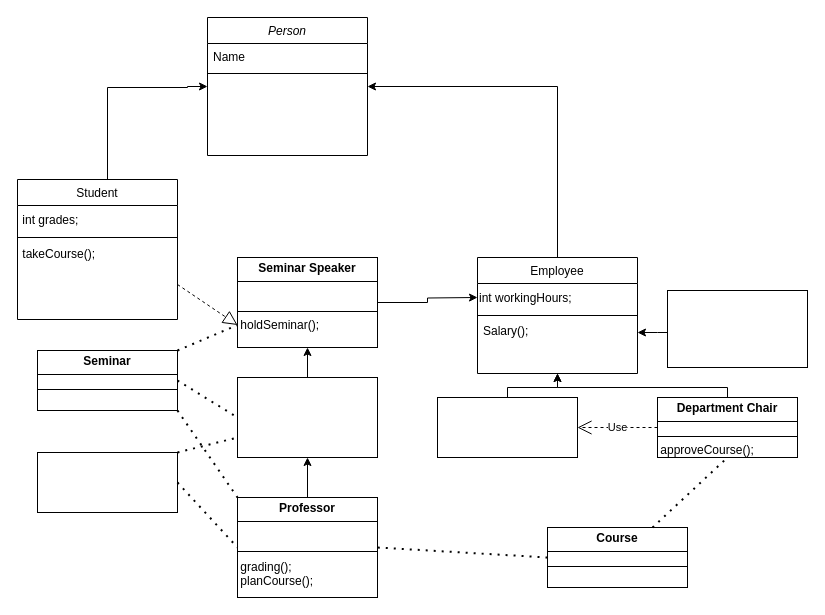
The diagram is 825 pixels wide and 615 high, and some of its shapes have lost their labels. The shapes that lost their labels are listed below. From the top down, each one's centre as x and y in pixels, then its label:
At [737,329]: "Janitor clean();".
At [307,417]: "Teaching assistant holdLecture();".
At [507,427]: "Secretary bookings();".
At [107,482]: "Lecture".
